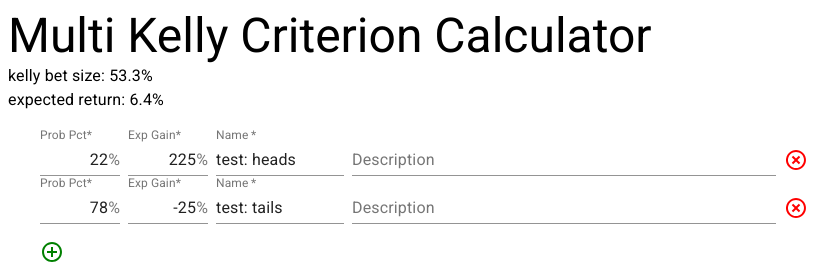
Test: kelly editor › errors › shows error when name is missing
This screenshot has width=823, height=279.
Clear the 1st field showing "test: heads". click: (280,160)
box: [216, 144, 344, 176]
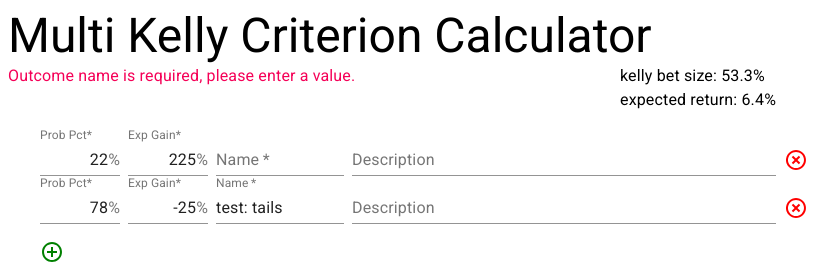
Now the text "Outcome name is required, please enter a value." is shown, box [8, 66, 355, 85]
